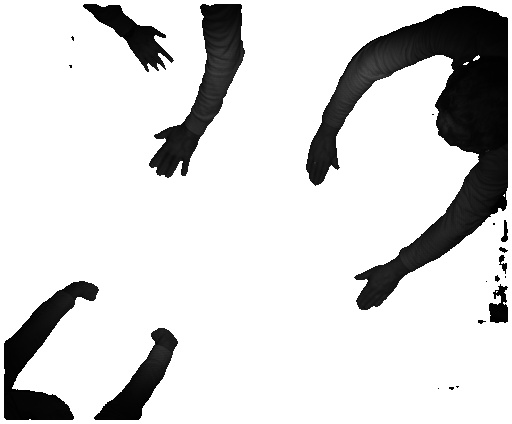fist: (144, 328, 183, 351), (77, 280, 103, 308)
hand: (144, 128, 199, 183), (352, 261, 402, 311), (304, 135, 343, 191), (128, 26, 175, 71)
